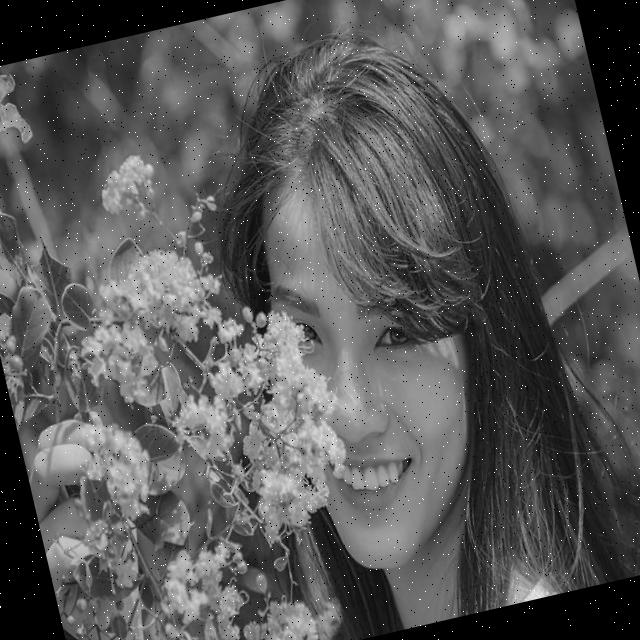Happiness: (242, 164, 510, 586)
